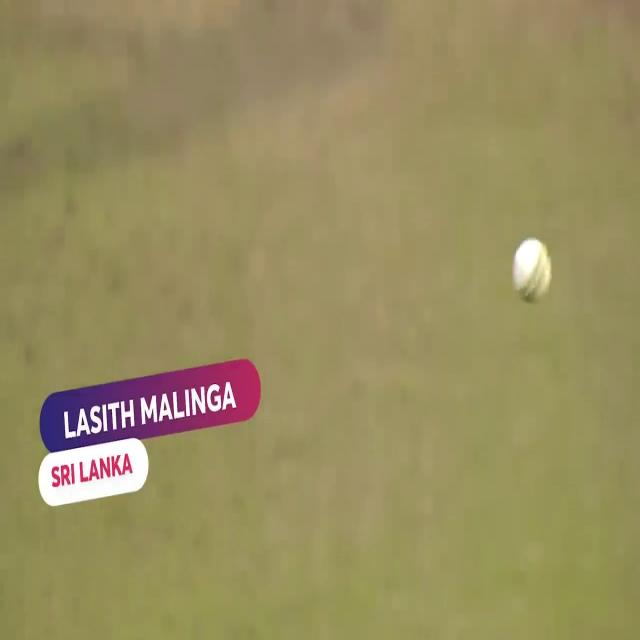ball: (512, 238, 552, 311)
